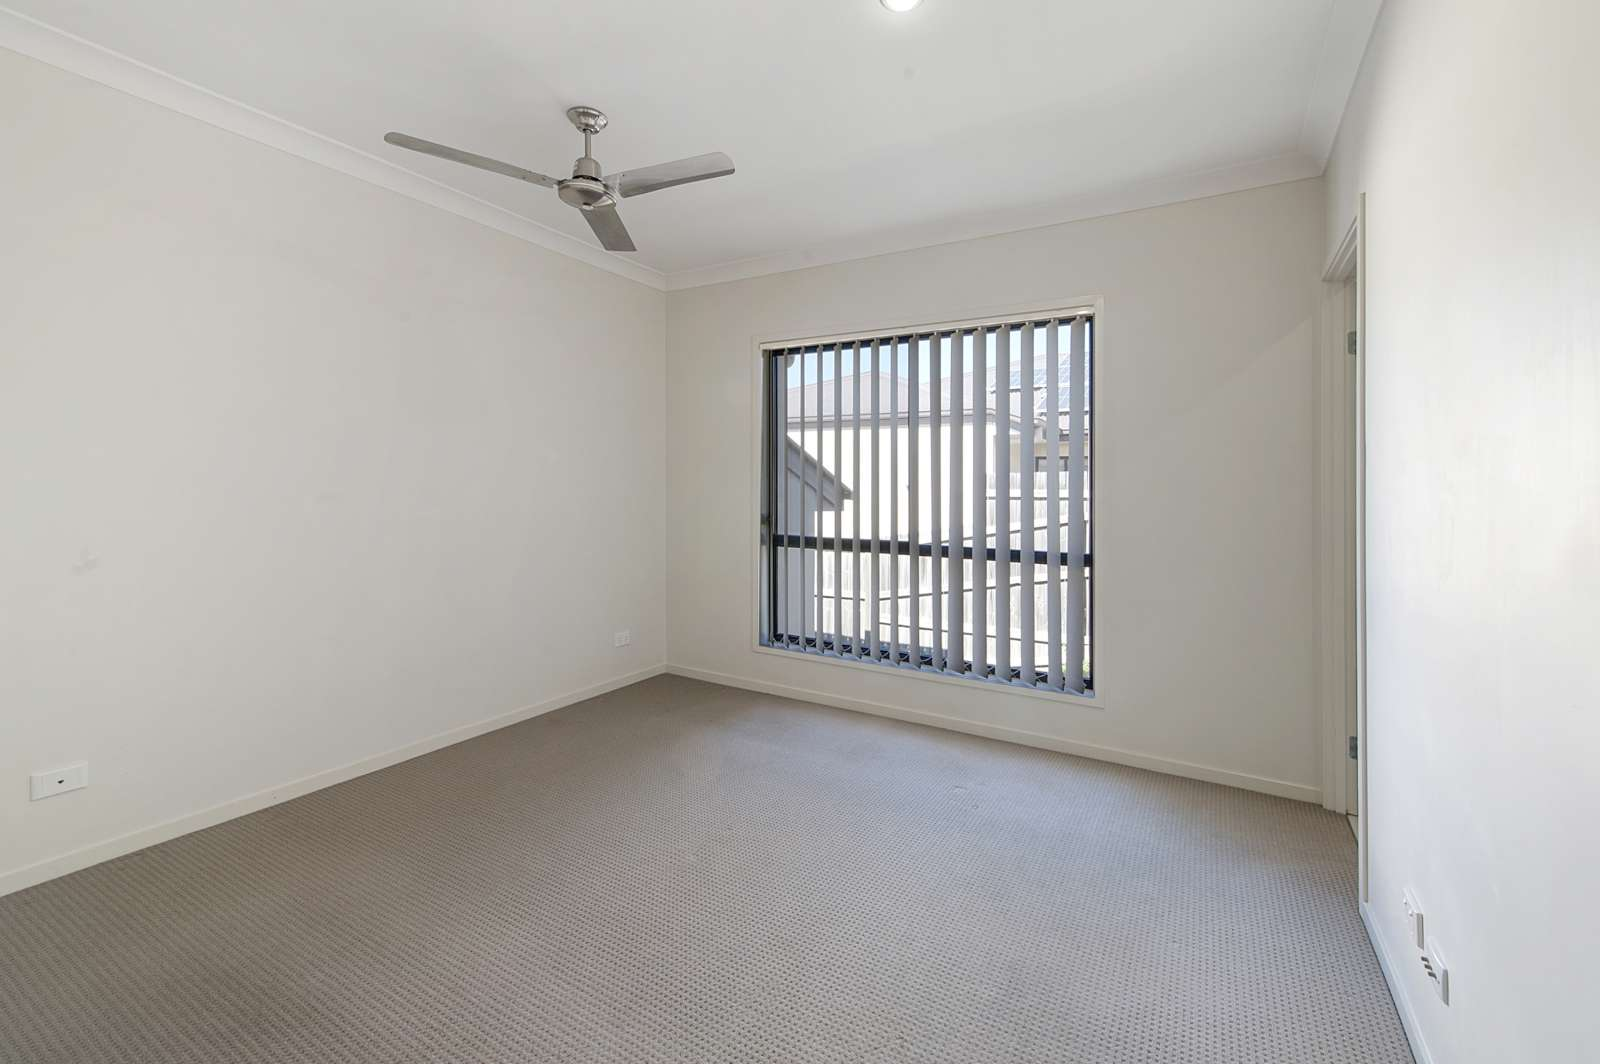ceiling fan: (338, 64, 756, 289)
